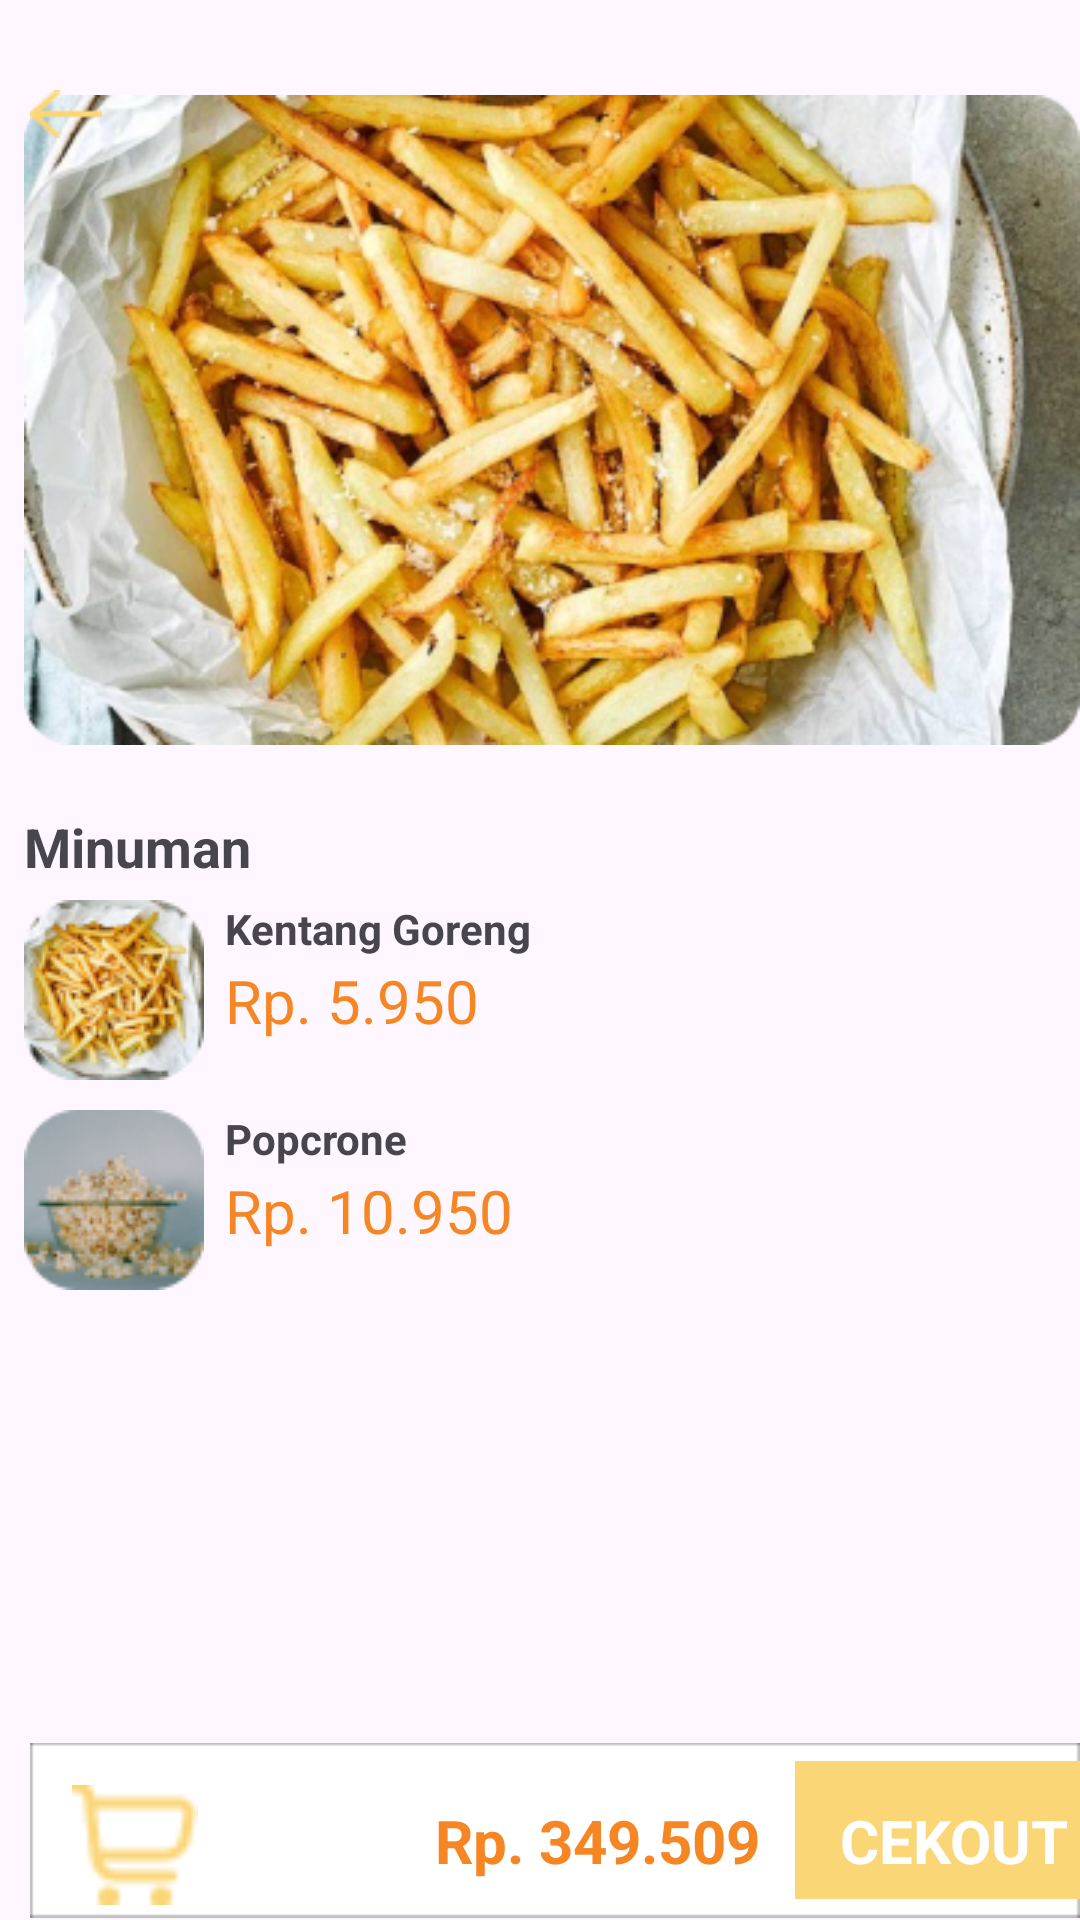

Screen size 1080px x 1920px. Icon name, then its center in pixels as (x,y):
arrowy: (66,114)
